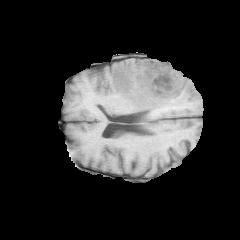glioma: (110, 58, 194, 112)
